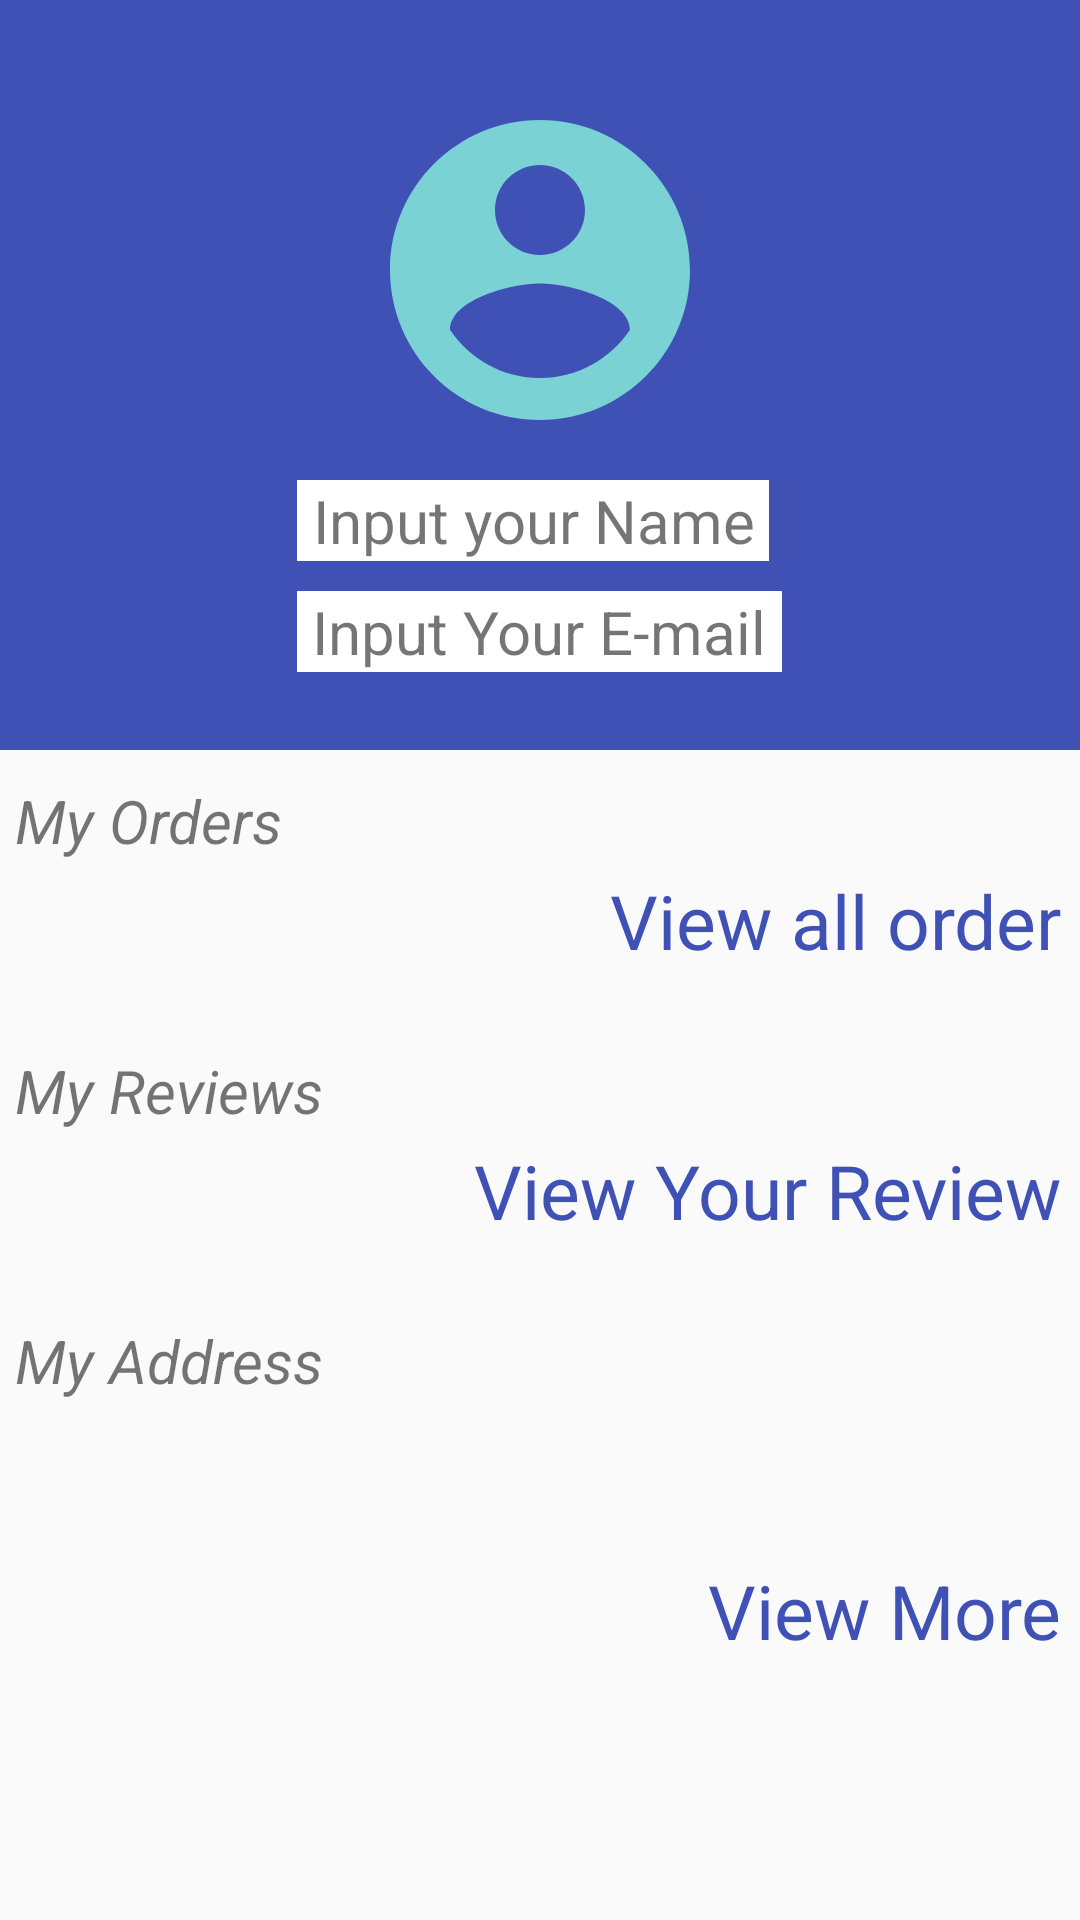

Point at icon controls on the screen. Image size 1080*1920, points as (x=x, y=y).
user: (x=540, y=270)
